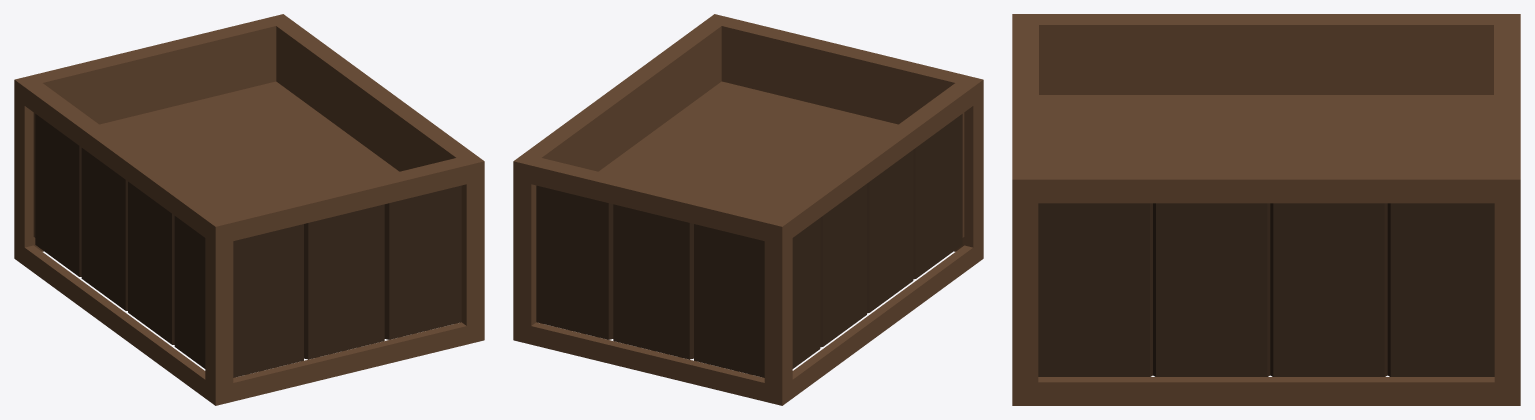
The picture shows the model from 3 angles, left to right: view 1: azimuth 30°, elevation 25°; view 2: azimuth 150°, elevation 25°; view 3: azimuth 270°, elevation 25°; orthographic projection. The views are drawn at different scales.
Parts seen in each view (by area): view 1: box_3_mat; view 2: box_3_mat; view 3: box_3_mat.
Boxes of the visible parts, x1,y1,x2,y2 form: box_3_mat: (14,14,484,405); box_3_mat: (513,14,983,405); box_3_mat: (1012,14,1520,405).
Size of the model in its own units: 40 by 25.45 by 51.83.
